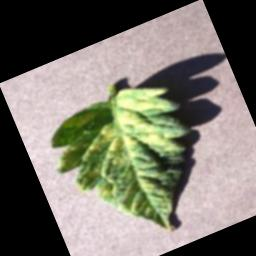Leaf_Mold: (38, 71, 222, 256)
